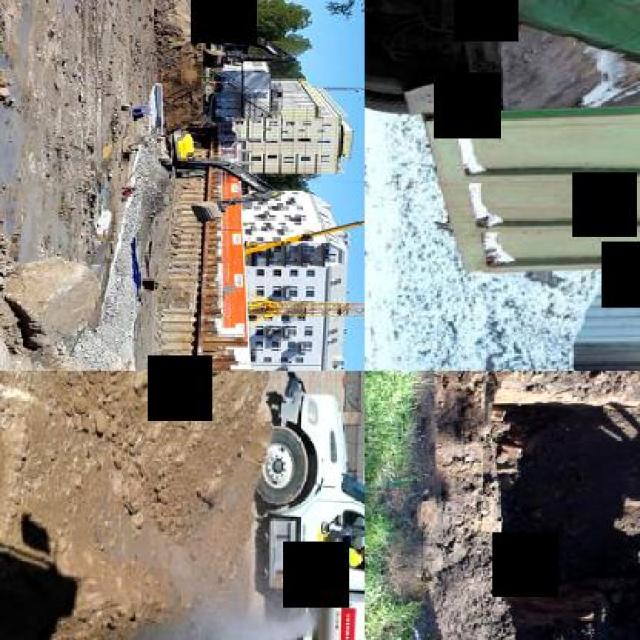dump_truck: (364, 0, 638, 282)
excavator: (152, 134, 278, 223), (201, 19, 293, 70)
